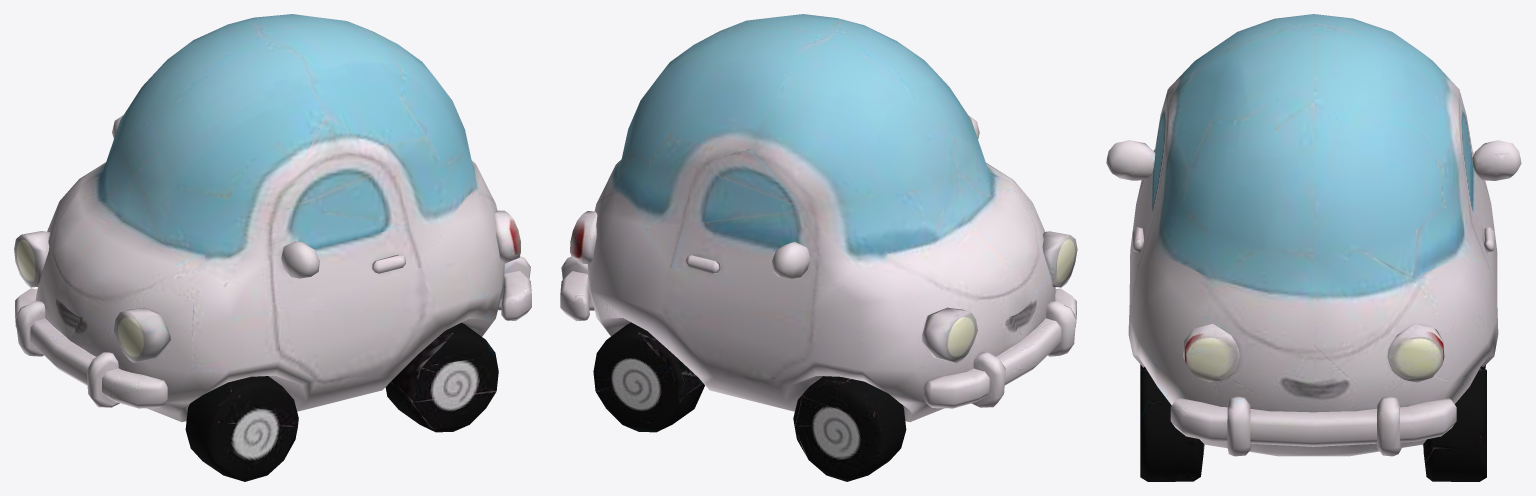
File: car2.glb
The picture shows the model from 3 angles, left to right: view 1: azimuth 30°, elevation 25°; view 2: azimuth 150°, elevation 25°; view 3: azimuth 270°, elevation 25°; orthographic projection. The views are drawn at different scales.
Bounding box in the file's own units: 0.9575 × 0.7622 × 0.7251.
1 material, 1 textured.
